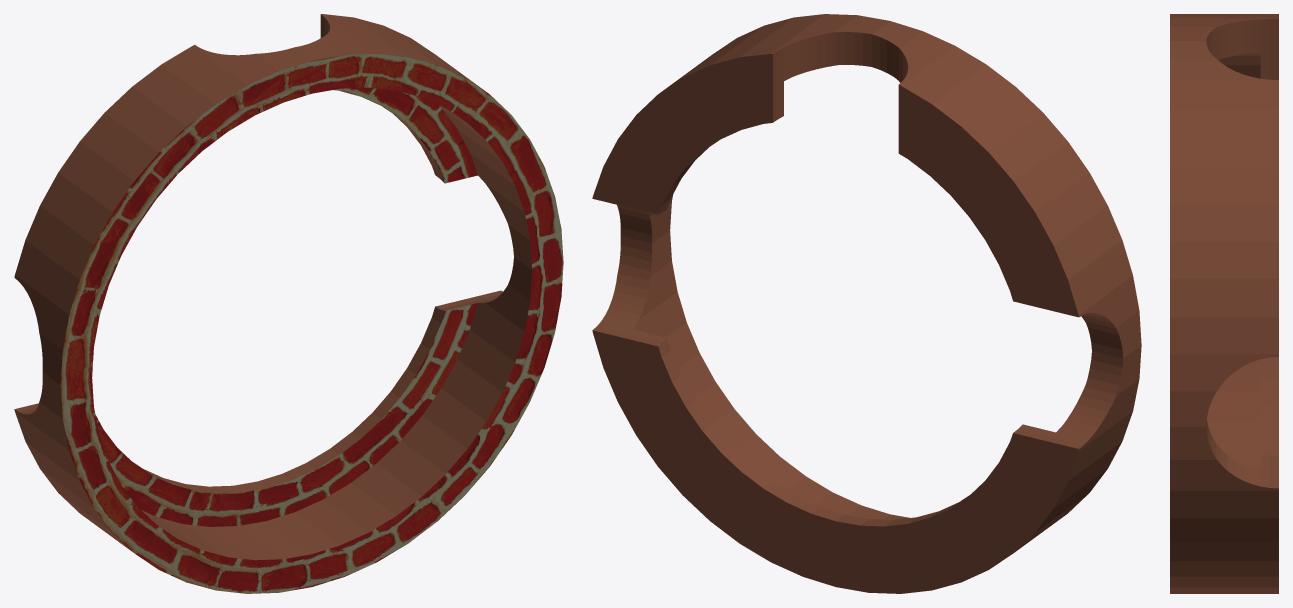
File: pool_044.obj
The picture shows the model from 3 angles, left to right: view 1: azimuth 30°, elevation 25°; view 2: azimuth 150°, elevation 25°; view 3: azimuth 270°, elevation 25°; orthographic projection.
Bounding box in the file's own units: 16 × 16 × 3.
